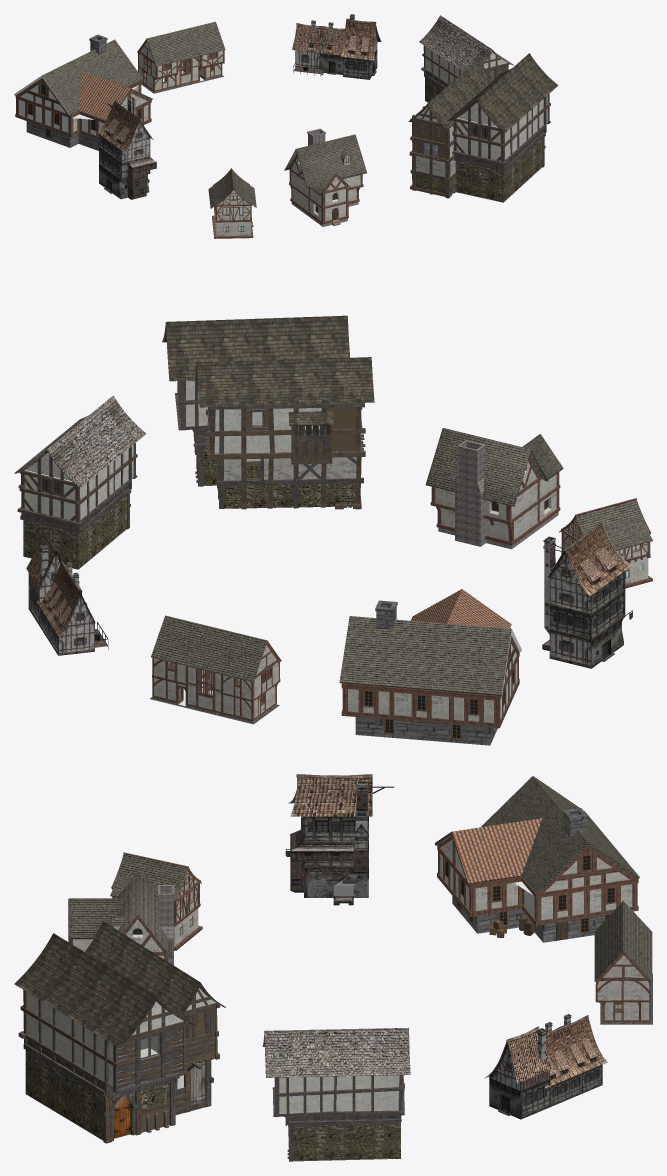
Rendered from buildings.obj.
3 views of the same model, one above another, from view 1: azimuth 30°, elevation 25°; view 2: azimuth 150°, elevation 25°; view 3: azimuth 270°, elevation 25° (orthographic). The views are drawn at different scales.
Visible parts, largest first — view 1: Mesh571 Group305 Model, Mesh11 Group1 Model, Mesh678 Group412 Group_221_1 Group306 Model, Mesh708 Group_221_1 Group306 Model, Mesh537 Group290 Model, Mesh527 Group294 Group290 Model, Mesh942 Group666 Group_439_1 Model, Mesh590 Group324 Group_221_1 Group306 Model, Mesh772 Group506 Group505 Group_222_1 Group306 Model, Mesh835 Group_222_1 Group306 Model, Mesh510 Component_2_3 Group289 Group286 Model, Mesh539 Component_2_4 Group304 Model (+15 smaller); view 2: Mesh571 Group305 Model, Mesh11 Group1 Model, Mesh678 Group412 Group_221_1 Group306 Model, Mesh835 Group_222_1 Group306 Model, Mesh772 Group506 Group505 Group_222_1 Group306 Model, Mesh527 Group294 Group290 Model, Mesh942 Group666 Group_439_1 Model, Mesh537 Group290 Model, Mesh972 Group_439_1 Model, Mesh525 Group292 Group290 Model, Mesh854 Group578 Group_439_1 Model, Mesh427 Group267 Group2 Model (+13 smaller); view 3: Mesh571 Group305 Model, Mesh678 Group412 Group_221_1 Group306 Model, Mesh942 Group666 Group_439_1 Model, Mesh11 Group1 Model, Mesh708 Group_221_1 Group306 Model, Mesh972 Group_439_1 Model, Mesh772 Group506 Group505 Group_222_1 Group306 Model, Mesh854 Group578 Group_439_1 Model, Mesh527 Group294 Group290 Model, Mesh590 Group324 Group_221_1 Group306 Model, Mesh544 Component_12_4 Group304 Model, Mesh427 Group267 Group2 Model (+16 smaller).
Part boxes in pixels (left/top/right/bottom): Mesh571 Group305 Model: left=14, top=34, right=152, bottom=150; Mesh11 Group1 Model: left=137, top=21, right=225, bottom=93; Mesh678 Group412 Group_221_1 Group306 Model: left=448, top=53, right=558, bottom=132; Mesh708 Group_221_1 Group306 Model: left=453, top=132, right=544, bottom=202; Mesh537 Group290 Model: left=289, top=154, right=363, bottom=226; Mesh527 Group294 Group290 Model: left=284, top=134, right=366, bottom=195; Mesh942 Group666 Group_439_1 Model: left=419, top=15, right=513, bottom=71; Mesh590 Group324 Group_221_1 Group306 Model: left=456, top=95, right=547, bottom=167; Mesh772 Group506 Group505 Group_222_1 Group306 Model: left=408, top=59, right=493, bottom=129; Mesh835 Group_222_1 Group306 Model: left=416, top=121, right=455, bottom=193; Mesh510 Component_2_3 Group289 Group286 Model: left=341, top=18, right=376, bottom=60; Mesh539 Component_2_4 Group304 Model: left=97, top=101, right=140, bottom=153; Mesh571 Group305 Model: left=339, top=589, right=521, bottom=745; Mesh11 Group1 Model: left=150, top=615, right=281, bottom=724; Mesh678 Group412 Group_221_1 Group306 Model: left=162, top=315, right=349, bottom=381; Mesh835 Group_222_1 Group306 Model: left=214, top=407, right=356, bottom=508; Mesh772 Group506 Group505 Group_222_1 Group306 Model: left=194, top=357, right=374, bottom=407; Mesh527 Group294 Group290 Model: left=425, top=428, right=563, bottom=506; Mesh942 Group666 Group_439_1 Model: left=14, top=395, right=146, bottom=487; Mesh537 Group290 Model: left=430, top=457, right=560, bottom=549; Mesh972 Group_439_1 Model: left=20, top=488, right=129, bottom=569; Mesh525 Group292 Group290 Model: left=455, top=440, right=485, bottom=546; Mesh854 Group578 Group_439_1 Model: left=24, top=445, right=133, bottom=528; Mesh427 Group267 Group2 Model: left=576, top=499, right=652, bottom=550; Mesh571 Group305 Model: left=435, top=776, right=639, bottom=942; Mesh678 Group412 Group_221_1 Group306 Model: left=14, top=933, right=196, bottom=1047; Mesh942 Group666 Group_439_1 Model: left=262, top=1027, right=410, bottom=1077; Mesh11 Group1 Model: left=594, top=901, right=652, bottom=1024; Mesh708 Group_221_1 Group306 Model: left=23, top=1043, right=179, bottom=1140; Mesh972 Group_439_1 Model: left=287, top=1118, right=400, bottom=1161; Mesh772 Group506 Group505 Group_222_1 Group306 Model: left=85, top=921, right=225, bottom=1015; Mesh854 Group578 Group_439_1 Model: left=279, top=1075, right=399, bottom=1120; Mesh527 Group294 Group290 Model: left=68, top=871, right=171, bottom=958; Mesh590 Group324 Group_221_1 Group306 Model: left=26, top=992, right=182, bottom=1090; Mesh544 Component_12_4 Group304 Model: left=290, top=774, right=372, bottom=816; Mesh427 Group267 Group2 Model: left=110, top=854, right=187, bottom=900.
Bounding box in the file's own units: 96.05 × 19.65 × 74.97.
